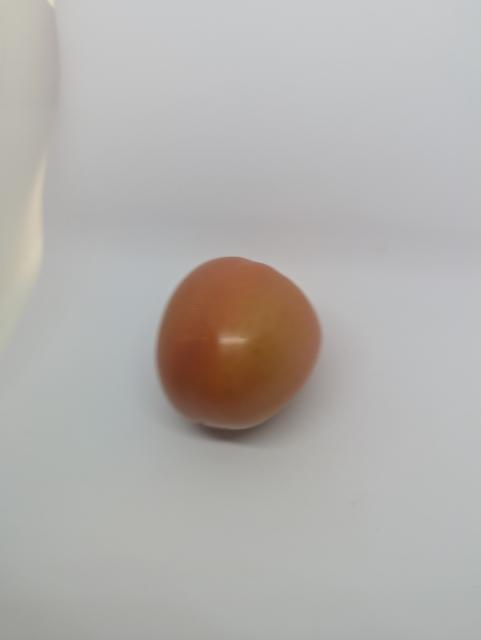turning: (151, 250, 333, 442)
